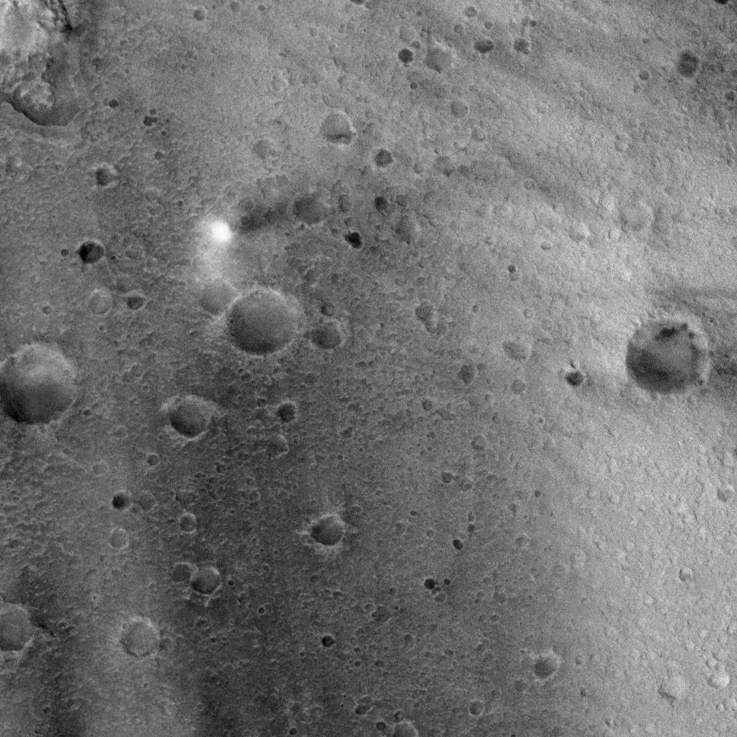dust_devil: (207, 197, 322, 245)
